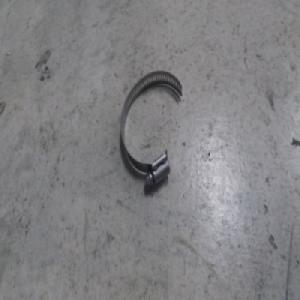AdjustableClamp: (118, 68, 182, 184)
